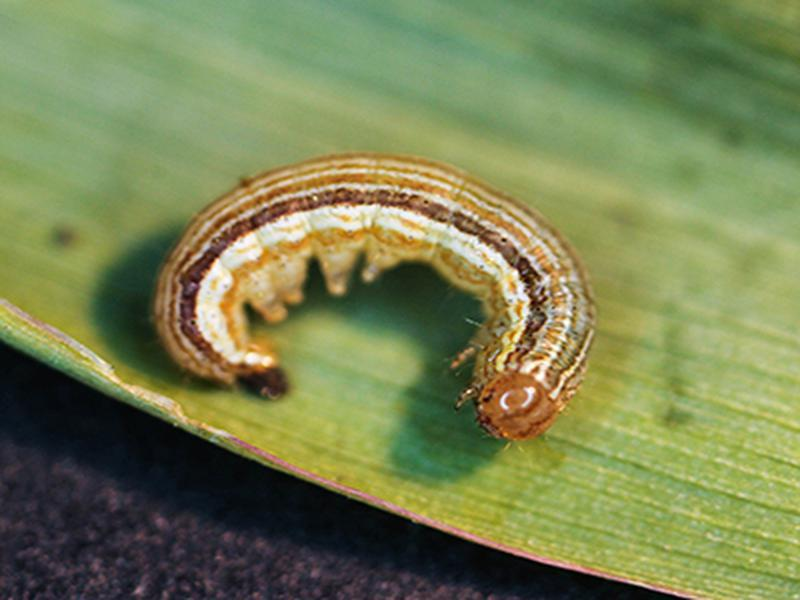Armyworms: (145, 137, 603, 452)
